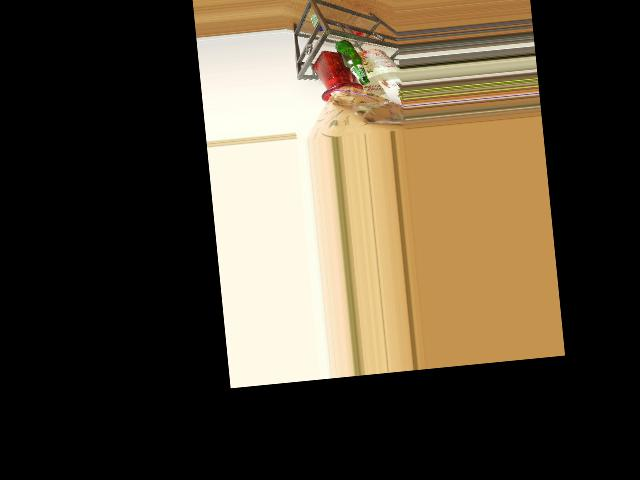beer: (335, 38, 369, 87)
